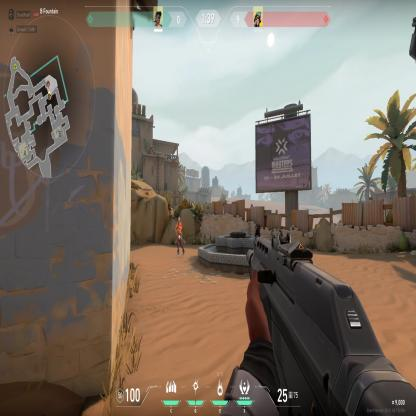enemy: (174, 215, 185, 258)
